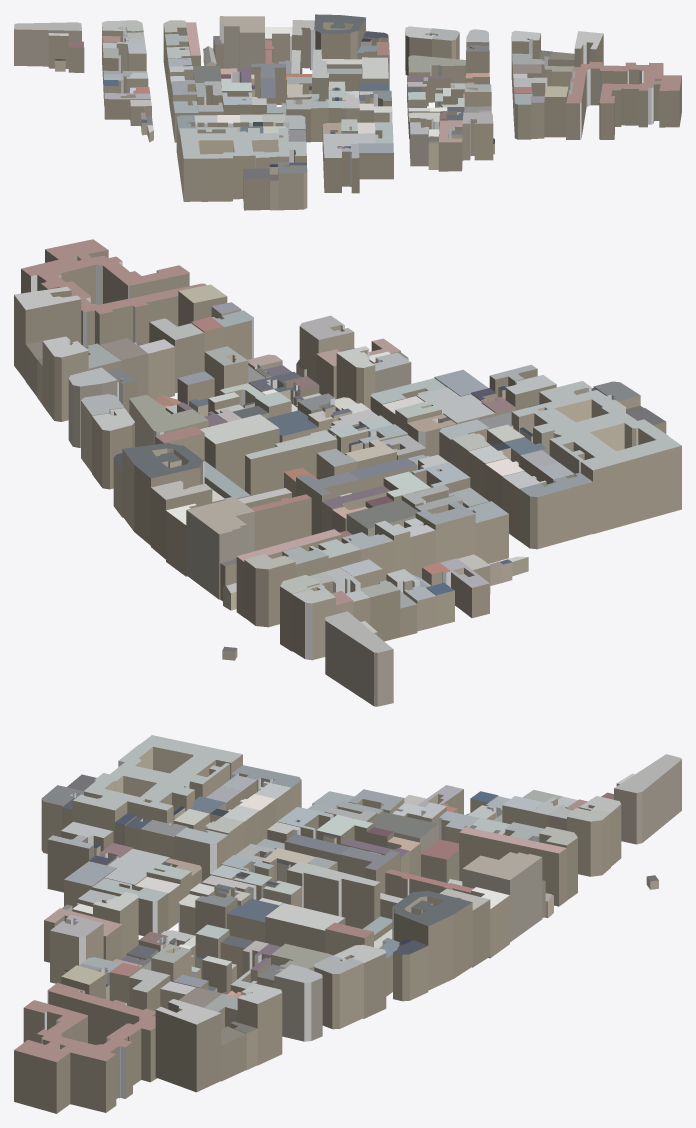
The picture shows the model from 3 angles, top to bottom: view 1: azimuth 30°, elevation 25°; view 2: azimuth 150°, elevation 25°; view 3: azimuth 270°, elevation 25°; orthographic projection. The views are drawn at different scales.
Parts seen in each view (by area): view 1: tuile; view 2: tuile; view 3: tuile.
Part boxes in pixels (box(x1,y1,x2,y2)): tuile: box(14, 14, 681, 210); tuile: box(14, 239, 681, 706); tuile: box(14, 735, 681, 1113).
Size of the model in its own units: 304 by 34.05 by 269.
